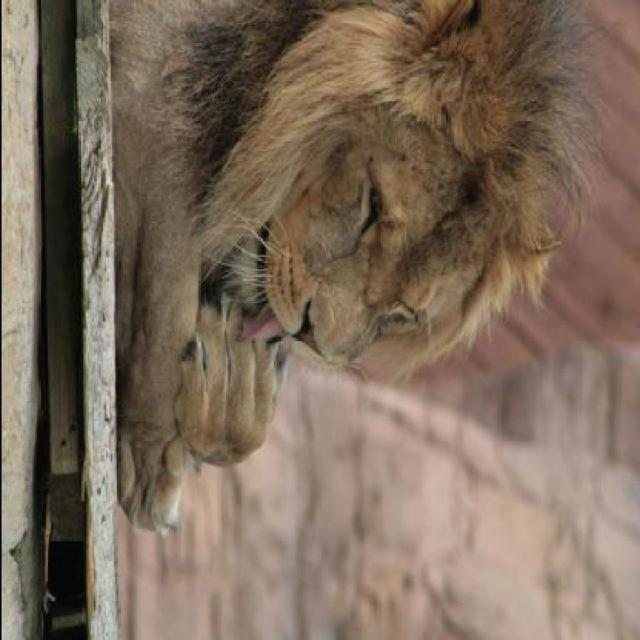Lion: (79, 9, 618, 551)
